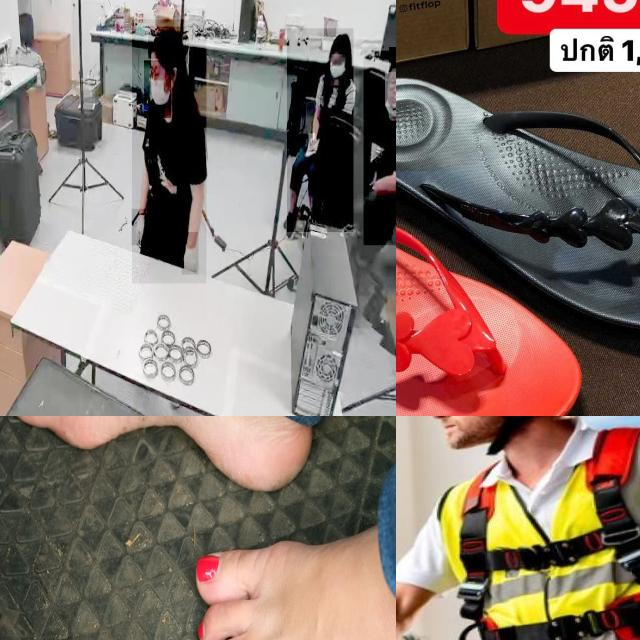Barefoots: (0, 416, 312, 492), (197, 526, 396, 640)
Harness: (458, 425, 640, 640)
Sandals: (396, 62, 640, 356), (396, 142, 610, 416)
face_mask: (144, 60, 171, 118), (330, 54, 346, 85)
face_nomask: (385, 71, 396, 107)
hand_glove: (181, 232, 199, 275), (132, 209, 146, 246)
hand_noglove: (309, 133, 317, 151)
head_nohelmet: (148, 26, 187, 59), (329, 32, 351, 53), (389, 47, 396, 69)
person: (132, 19, 207, 284), (287, 28, 354, 233), (363, 50, 396, 246)
